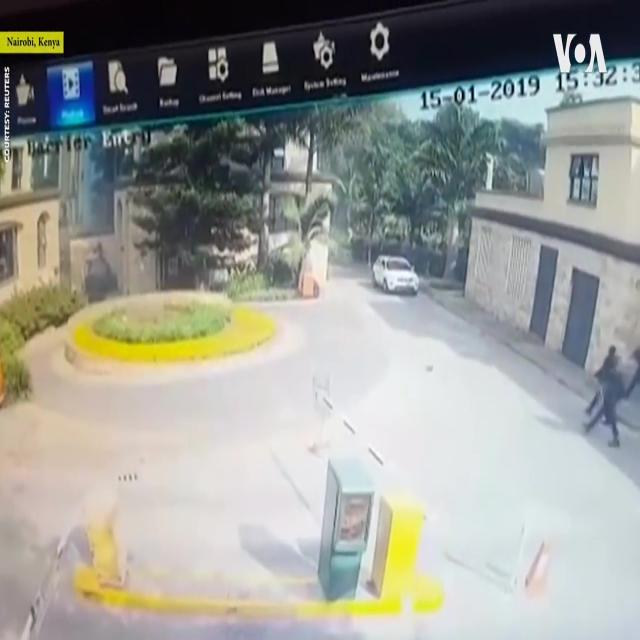Weapon: (595, 352, 619, 420), (630, 343, 640, 383)
